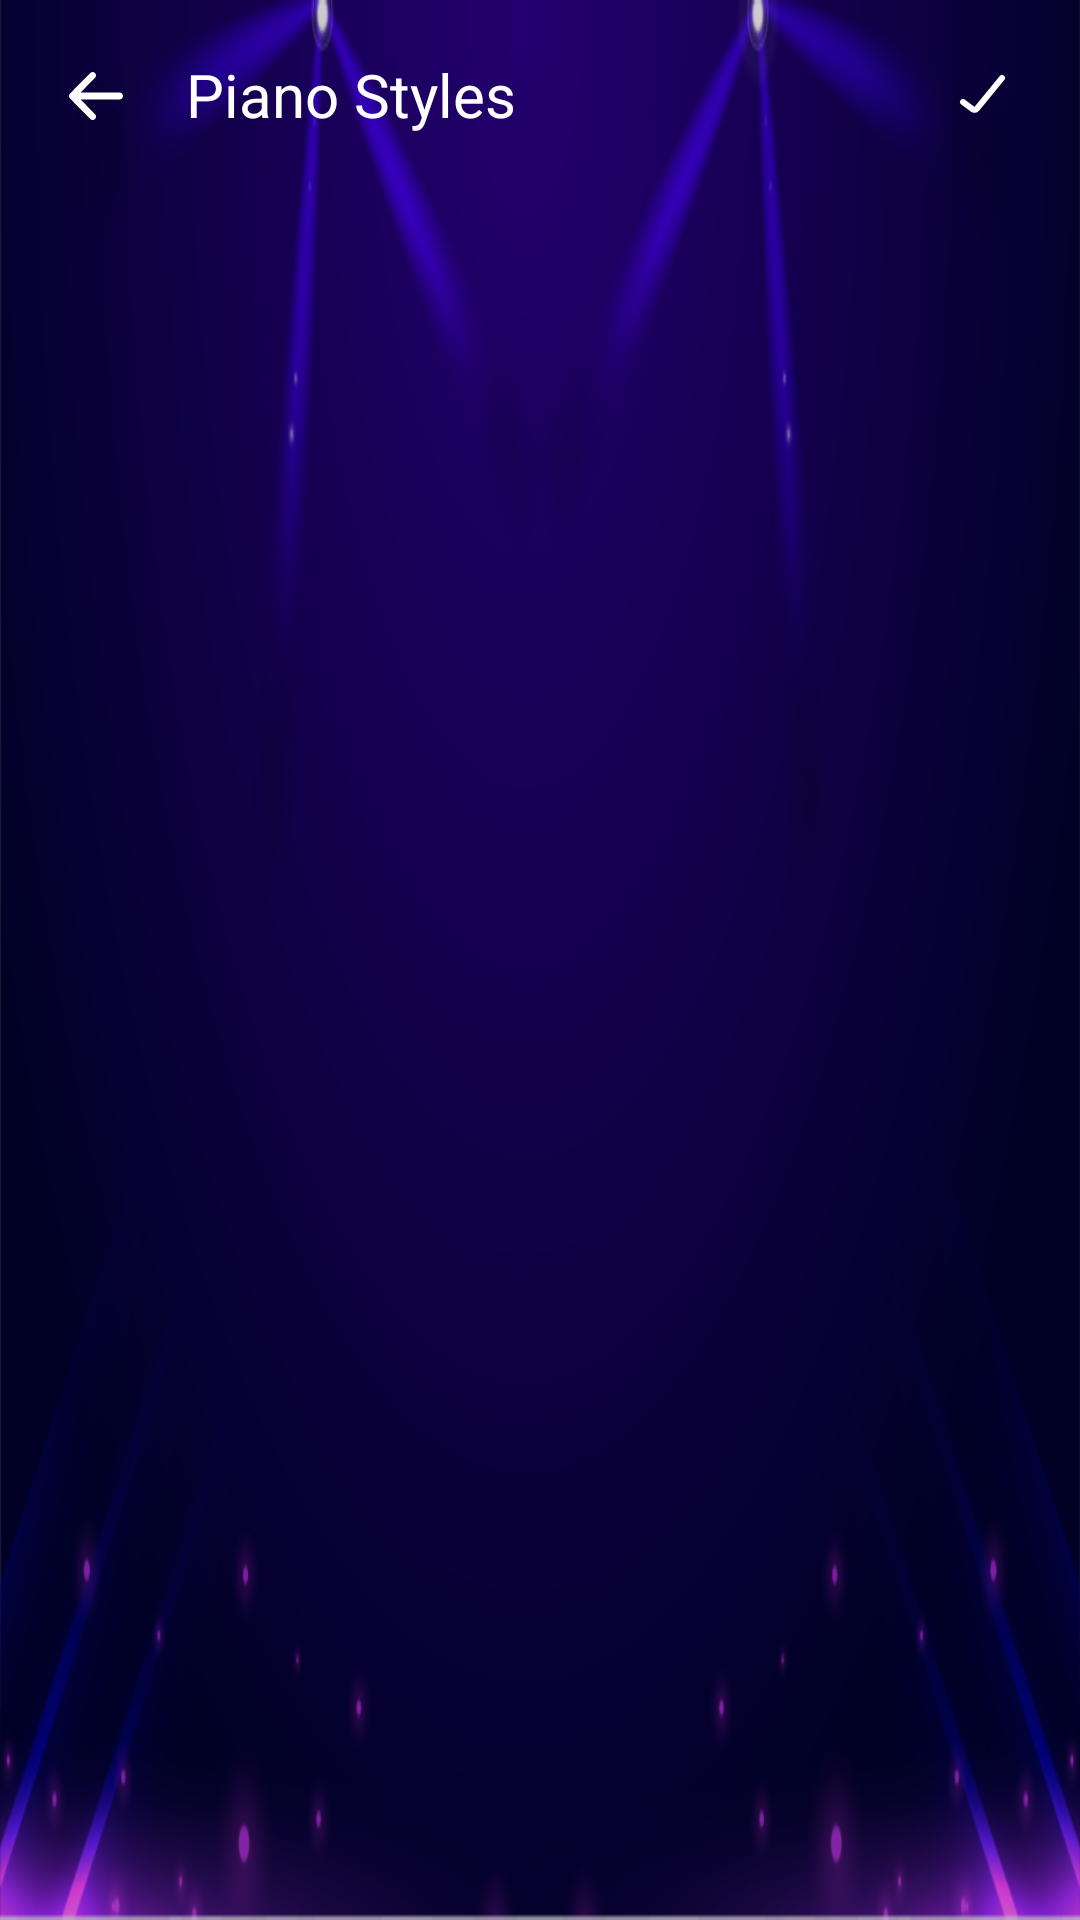

Named icons in this screenshot (1080×1920) and their bounding boxes, (x1=x1, y1=y1, x2=x2, y2=y2):
back: (x1=69, y1=72, x2=123, y2=120)
tick: (x1=960, y1=75, x2=1006, y2=113)
